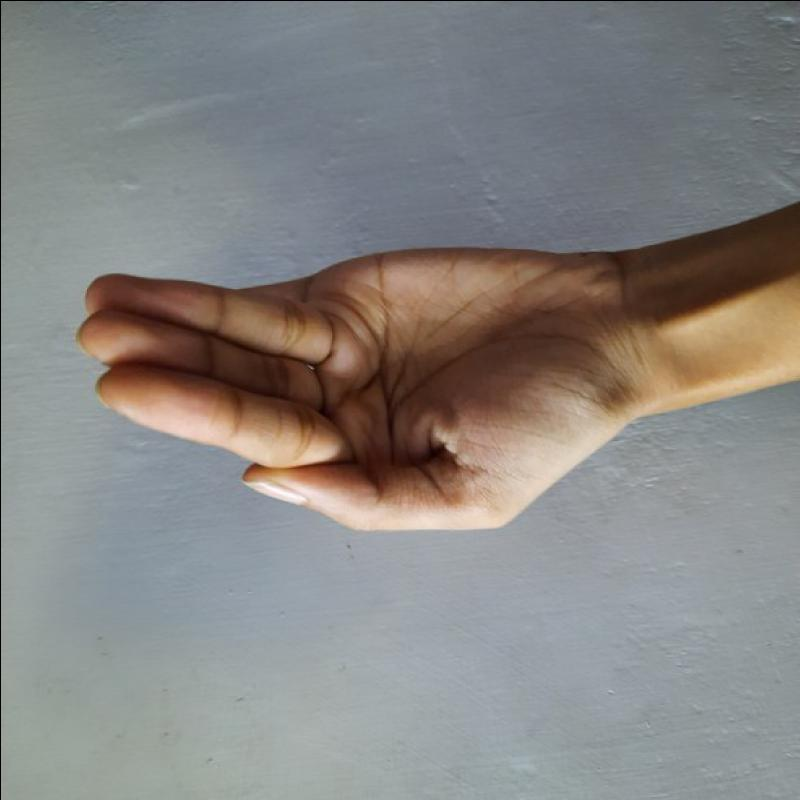Kartharee Mukham: (59, 217, 627, 542)
